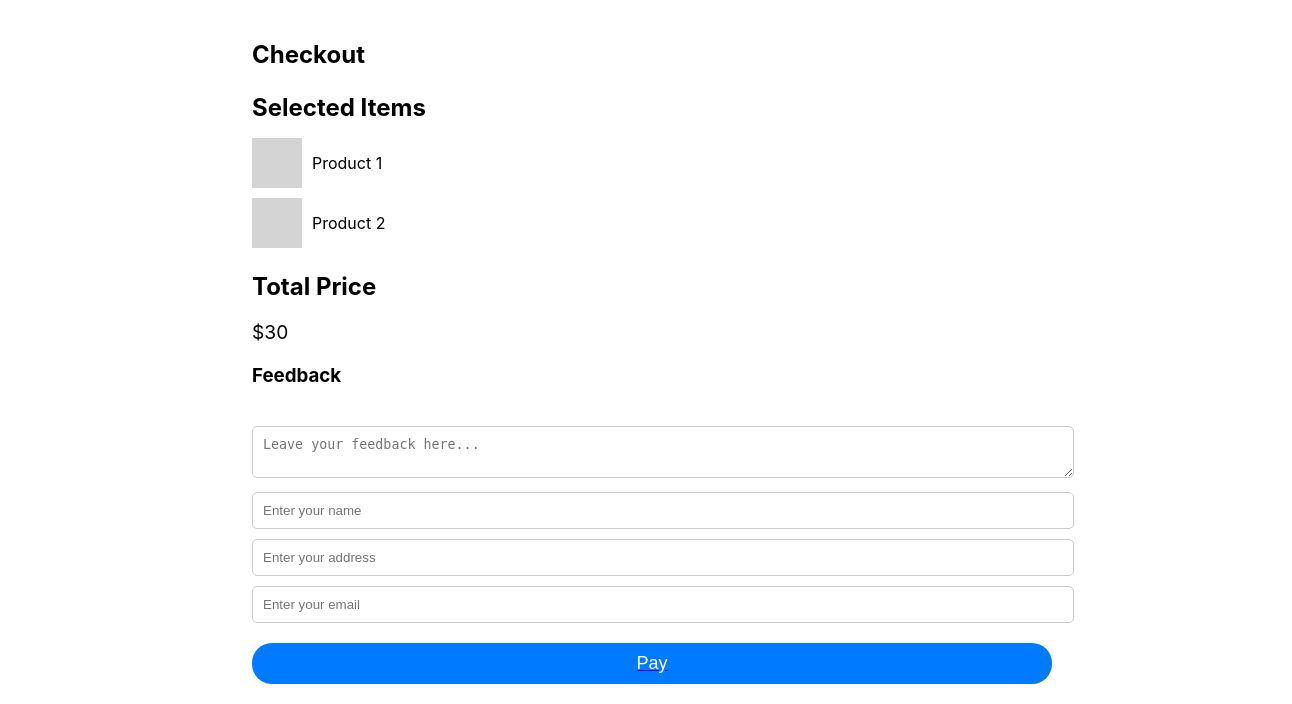
it: CheckoutPage › redirects to thank you page when "Pay" link is clicked and redirected to ThankyouPage
This screenshot has width=1292, height=704.
# Click the "Pay" button
Click the button "Pay" at (652, 663), box [252, 643, 1052, 684]
(page scrolled)
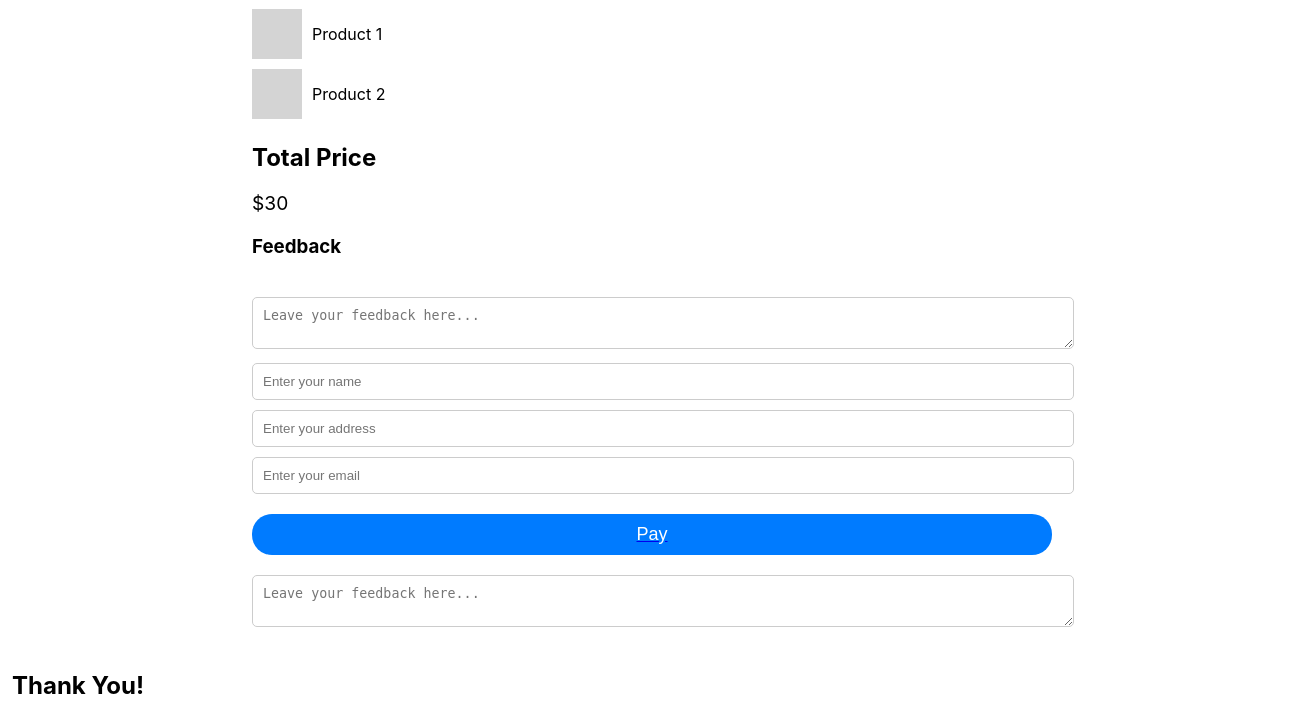
Check: the heading "Thank You!" is shown, box [12, 671, 144, 700]
